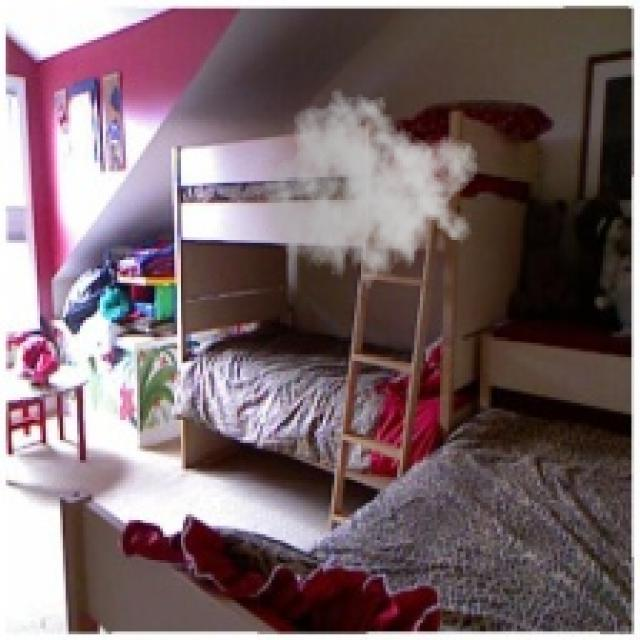smoke: (263, 83, 480, 300)
